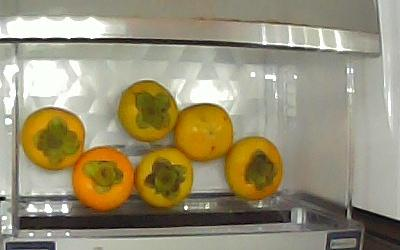persimmon: (21, 105, 85, 172), (72, 146, 135, 212), (117, 79, 178, 143), (226, 136, 284, 201), (134, 147, 195, 208), (174, 103, 234, 160)
